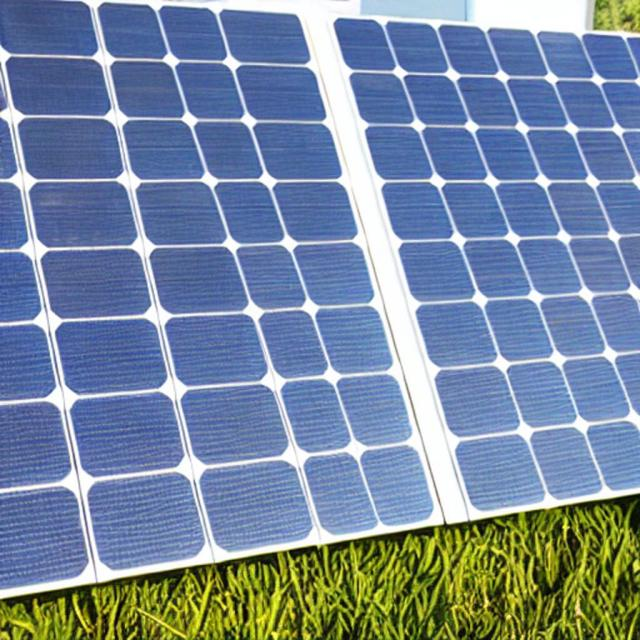no faulty: (0, 19, 640, 525)
